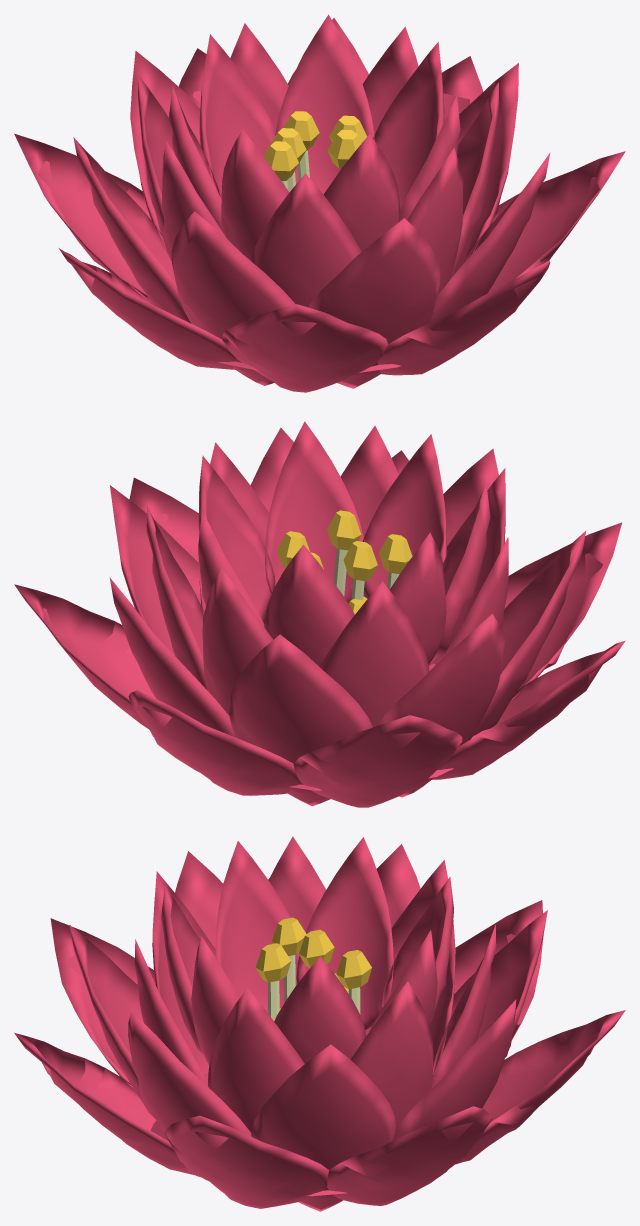
The model's file is Flower 1.fbx.
3 views of the same model, one above another, from view 1: azimuth 30°, elevation 25°; view 2: azimuth 150°, elevation 25°; view 3: azimuth 270°, elevation 25° (orthographic). The views are drawn at different scales.
Visible parts, largest first — view 1: Circle.049; view 2: Circle.049; view 3: Circle.049.
Part boxes in pixels (box(x1,y1,x2,y2)): Circle.049: box(14, 14, 625, 392); Circle.049: box(14, 421, 625, 807); Circle.049: box(14, 836, 625, 1211).
Size of the model in its own units: 2.6 by 1.29 by 2.62.
